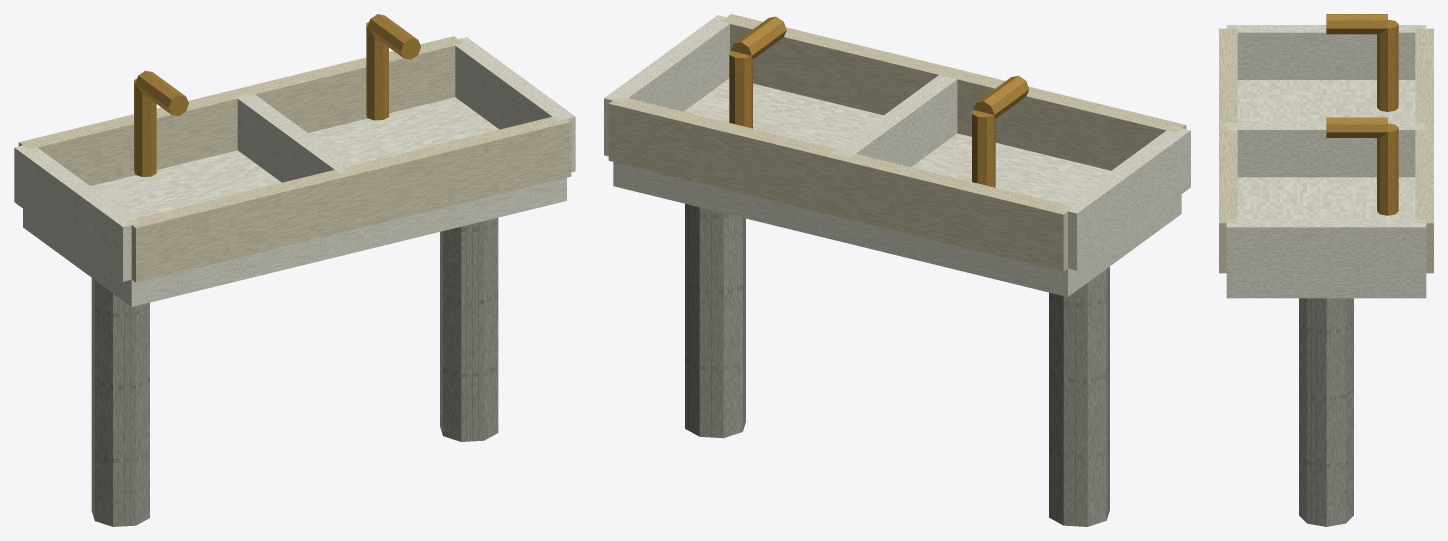
The model's file is washbasin_intact.glb.
3 renders of one model, left to right at view 1: azimuth 30°, elevation 25°; view 2: azimuth 150°, elevation 25°; view 3: azimuth 270°, elevation 25°, orthographic. The views are drawn at different scales.
Visible parts, largest first — view 1: rim (×2), leg (×2), bowl_bottom, divider (×3), tap (×2), spout (×2); view 2: rim (×2), leg (×2), bowl_bottom, divider (×3), tap (×2), spout (×2); view 3: divider (×3), bowl_bottom, leg, rim (×2), tap (×2), spout (×2).
Boxes of the visible parts, <box> form: rim (×2): <box>18,36,571,282</box>; leg (×2): <box>91,218,498,526</box>; bowl_bottom: <box>23,97,566,306</box>; divider (×3): <box>14,37,575,281</box>; tap (×2): <box>134,22,388,176</box>; spout (×2): <box>135,14,420,116</box>; rim (×2): <box>608,14,1186,271</box>; leg (×2): <box>685,203,1109,526</box>; bowl_bottom: <box>613,78,1181,296</box>; divider (×3): <box>604,15,1190,270</box>; tap (×2): <box>729,51,995,187</box>; spout (×2): <box>730,16,1029,118</box>; divider (×3): <box>1226,25,1426,277</box>; bowl_bottom: <box>1226,80,1426,298</box>; leg: <box>1299,298,1353,526</box>; rim (×2): <box>1219,28,1433,273</box>; tap (×2): <box>1377,19,1398,215</box>; spout (×2): <box>1326,14,1387,137</box>.
Bounding box in the file's own units: 1.56 × 1.34 × 0.7.
1 material, 1 textured.
